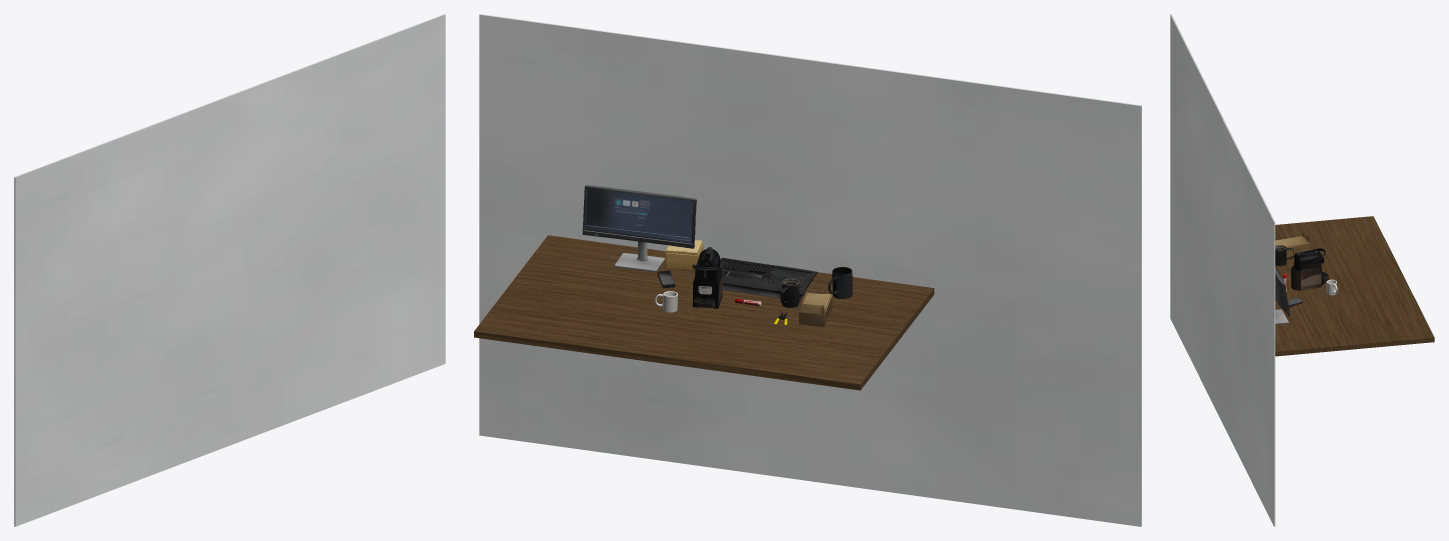
Rendered from ours.glb.
3 renders of one model, left to right at view 1: azimuth 30°, elevation 25°; view 2: azimuth 150°, elevation 25°; view 3: azimuth 270°, elevation 25°, orthographic. The views are drawn at different scales.
Parts seen in each view (by area): view 1: wall_0; view 2: wall_0, desk_0, obj_monitor_0, obj_keyboard_0, obj_coffee_machine_0, obj_box_1, obj_box_0; view 3: wall_0, desk_0, obj_coffee_machine_0, obj_monitor_0, obj_box_1.
Boxes of the visible parts, <box> form: wall_0: <box>14,14,445,526</box>; wall_0: <box>479,14,1141,526</box>; desk_0: <box>474,235,934,390</box>; obj_monitor_0: <box>582,185,696,272</box>; obj_keyboard_0: <box>720,257,817,301</box>; obj_coffee_machine_0: <box>692,247,722,308</box>; obj_box_1: <box>798,292,832,326</box>; obj_box_0: <box>665,240,703,271</box>; wall_0: <box>1170,14,1275,526</box>; desk_0: <box>1275,216,1434,356</box>; obj_coffee_machine_0: <box>1291,248,1328,290</box>; obj_monitor_0: <box>1275,267,1289,324</box>; obj_box_1: <box>1275,231,1309,257</box>.
Size of the model in its own units: 2.94 by 2 by 1.57.
14 materials, 14 textured.
